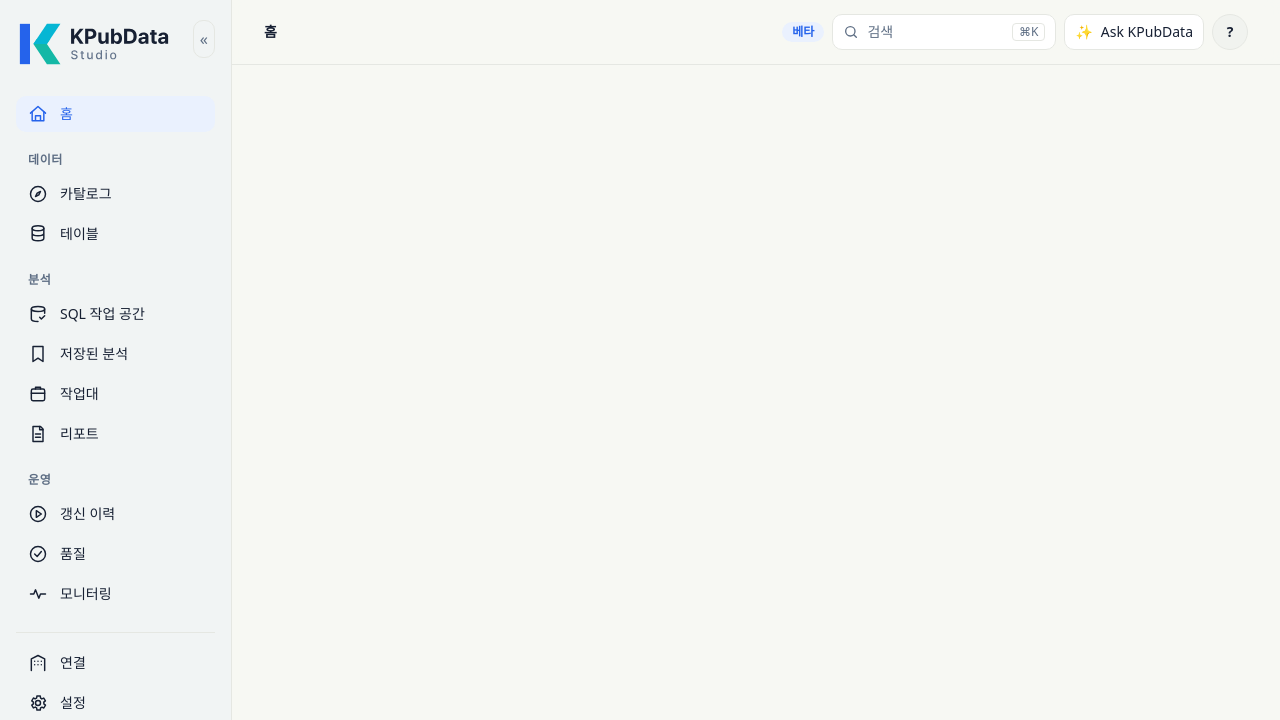
administration menu after a failed check (#480) › asks again on the next navigation instead of staying hidden until reload
Expected: the link "관리" is not shown
Click the link "테이블" at [63, 234], box [28,224,99,244]
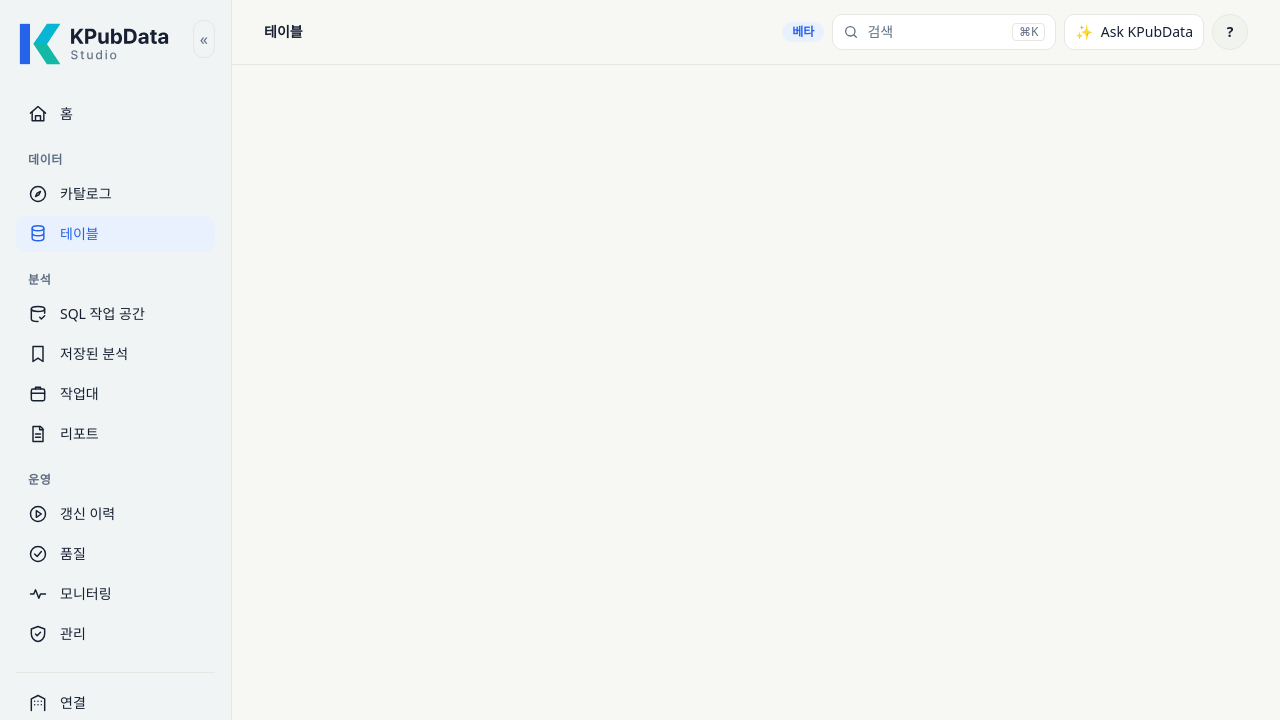
Expected: the link "관리" is shown, [28,624,86,644]
